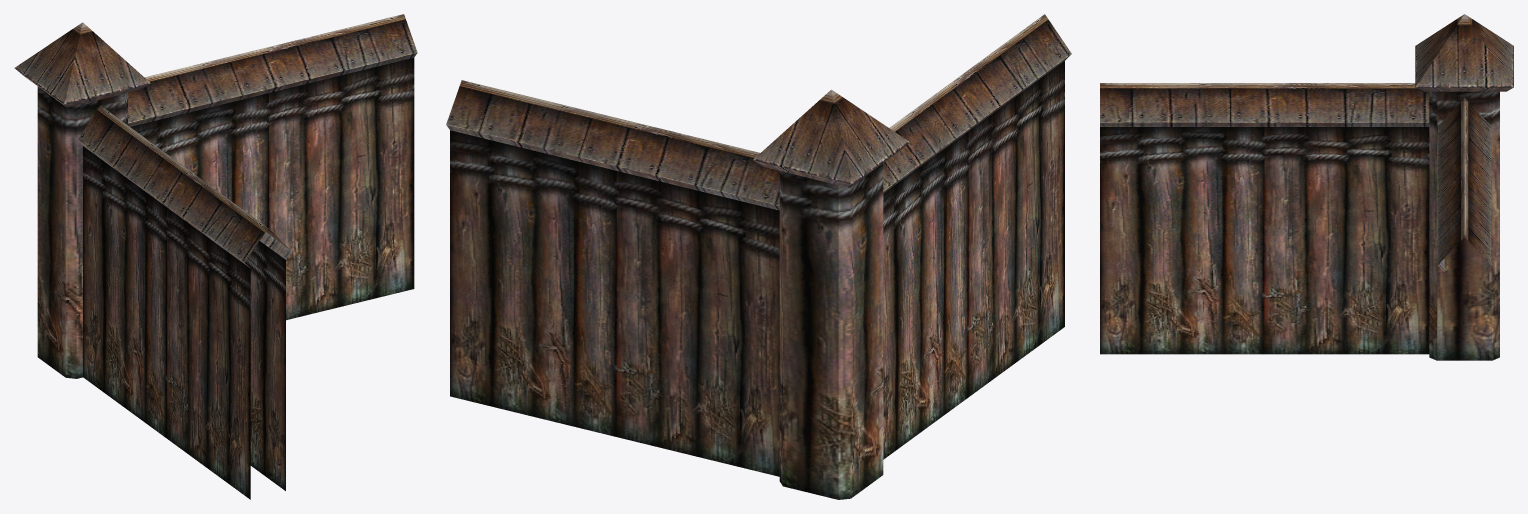
File: mhouse20h.glb
3 renders of one model, left to right at view 1: azimuth 30°, elevation 25°; view 2: azimuth 150°, elevation 25°; view 3: azimuth 270°, elevation 25°, orthographic. The views are drawn at different scales.
Parts seen in each view (by area): view 1: mhouse20h-col; view 2: mhouse20h-col; view 3: mhouse20h-col.
Boxes of the visible parts, bbox=[...] form: mhouse20h-col: bbox=[14, 14, 417, 499]; mhouse20h-col: bbox=[446, 14, 1071, 499]; mhouse20h-col: bbox=[1100, 14, 1513, 360].
Size of the model in its own units: 5.28 by 4.67 by 5.28.
3 materials, 3 textured.
